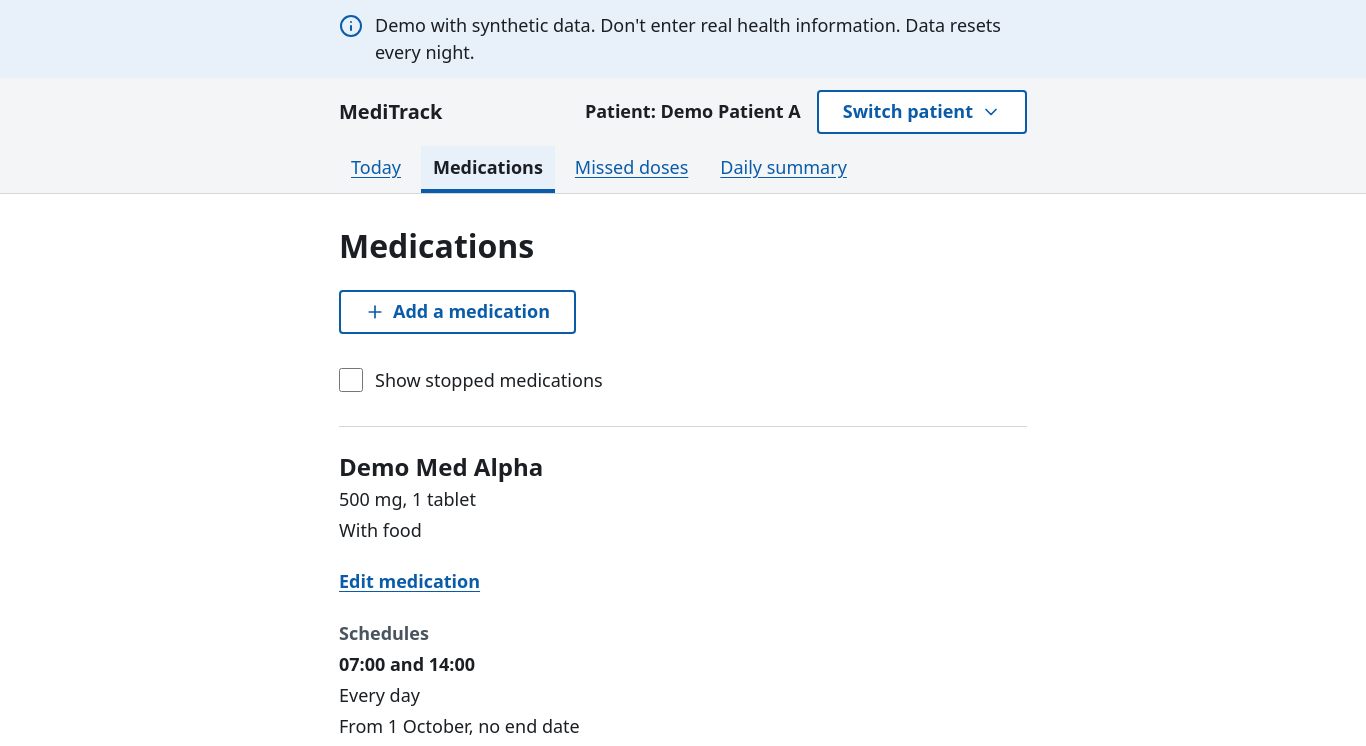
Test case: Patient switcher › opens a list of the other patients and All patients, and says it is open
This screenshot has width=1366, height=746.
Click the button "Switch patient".
click(922, 112)  # box [817,90,1027,134]
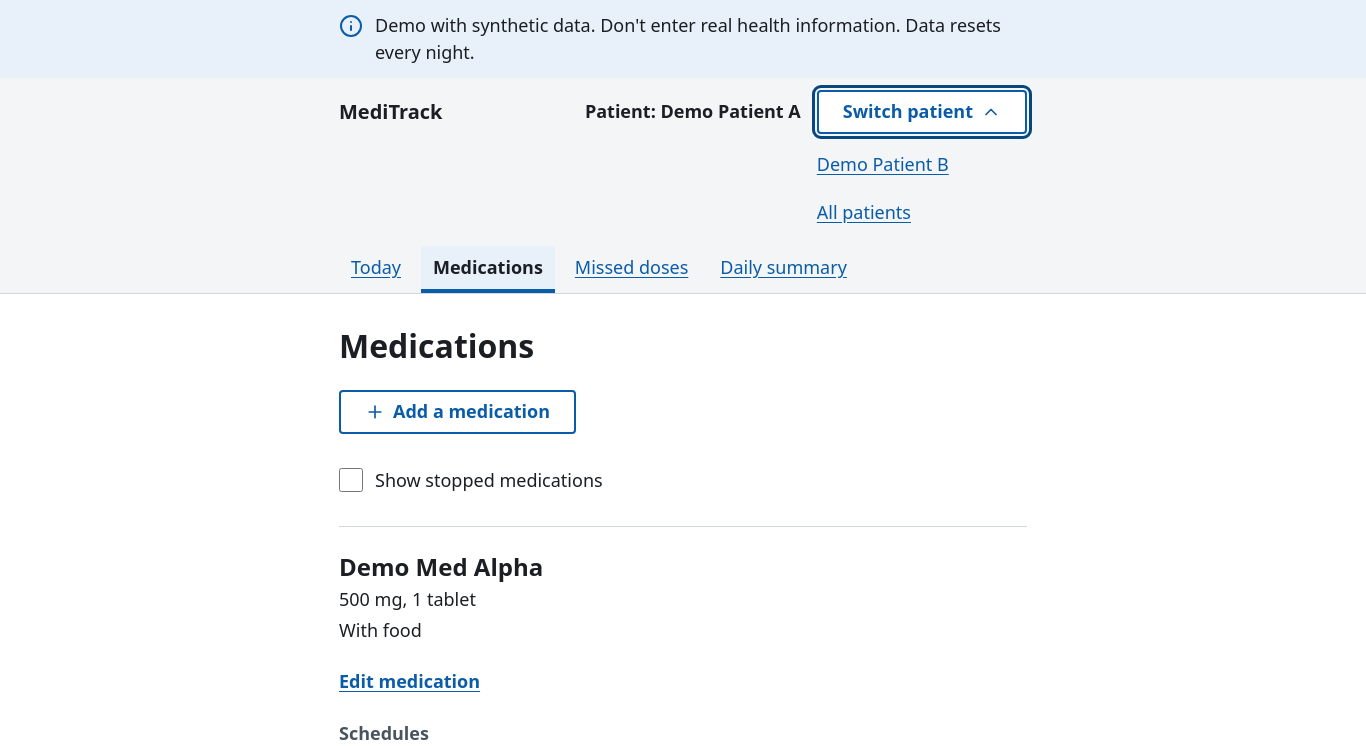
Now the button "Switch patient" is expanded, box [817,90,1027,134]
Now the links read "Demo Patient B", "All patients", in this order, box [817,152,949,176]; [817,200,911,224]
